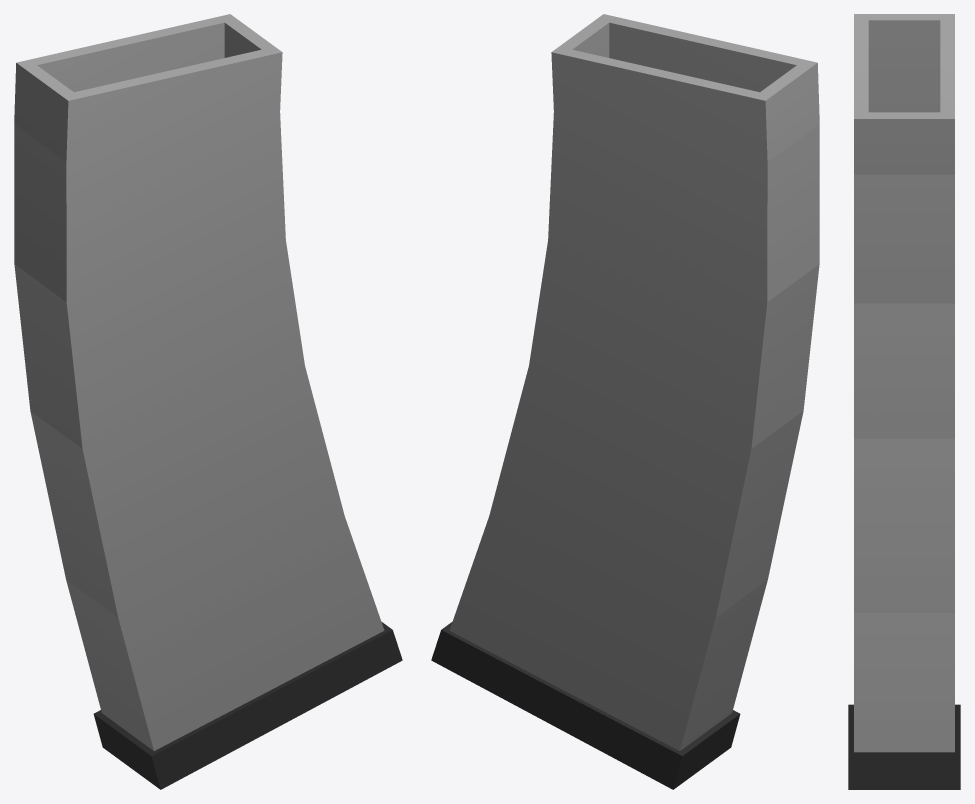
The model's file is AssaultRifle2_04_2.fbx.
3 renders of one model, left to right at view 1: azimuth 30°, elevation 25°; view 2: azimuth 150°, elevation 25°; view 3: azimuth 270°, elevation 25°, orthographic. The views are drawn at different scales.
Visible parts, largest first — view 1: AssaultRifle2_04_2; view 2: AssaultRifle2_04_2; view 3: AssaultRifle2_04_2.
Boxes of the visible parts, x1=… form: AssaultRifle2_04_2: x1=14, y1=14, x2=402, y2=789; AssaultRifle2_04_2: x1=431, y1=14, x2=819, y2=789; AssaultRifle2_04_2: x1=848, y1=14, x2=960, y2=789.
Bounding box in the file's own units: 0.1132 × 0.2299 × 0.0341.
